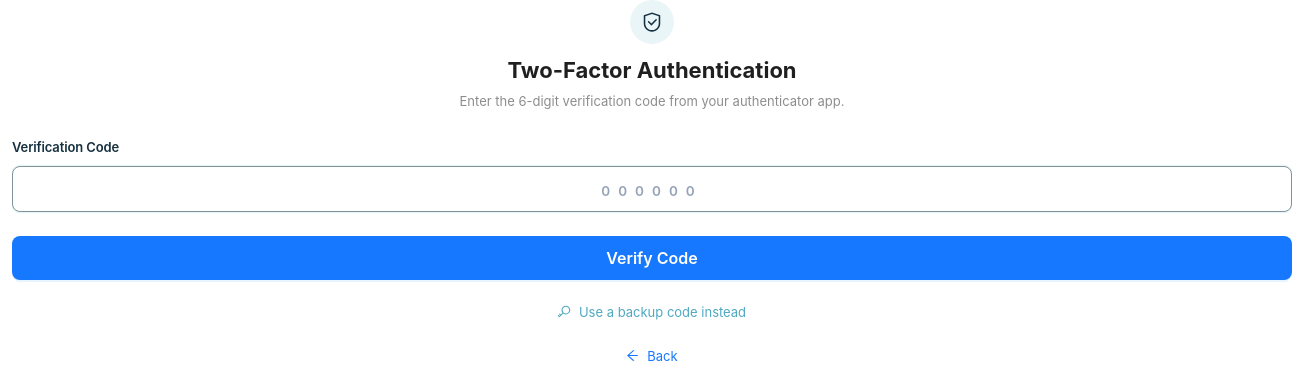
RecruiTrain Admin Frontend Suite › 2. Authentication State Machine Navigation › switches to Backup Code recovery view from TOTP view
Click the button "Use a backup code instead": (652, 312) [12, 296, 1292, 328]
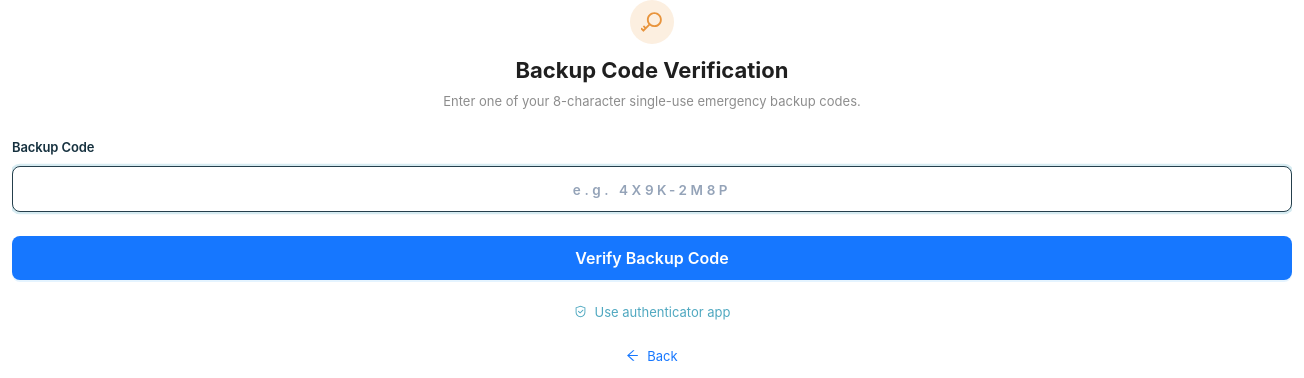
Expected: the heading "Backup Code Verification" is shown, [516, 57, 788, 83]
Expected: the button "Verify Backup Code" is shown, [12, 236, 1292, 280]
